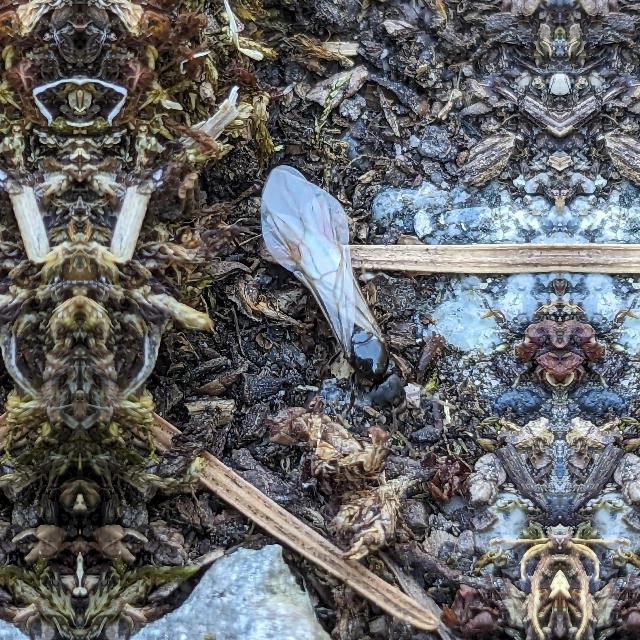Lasius: (256, 147, 434, 439)
